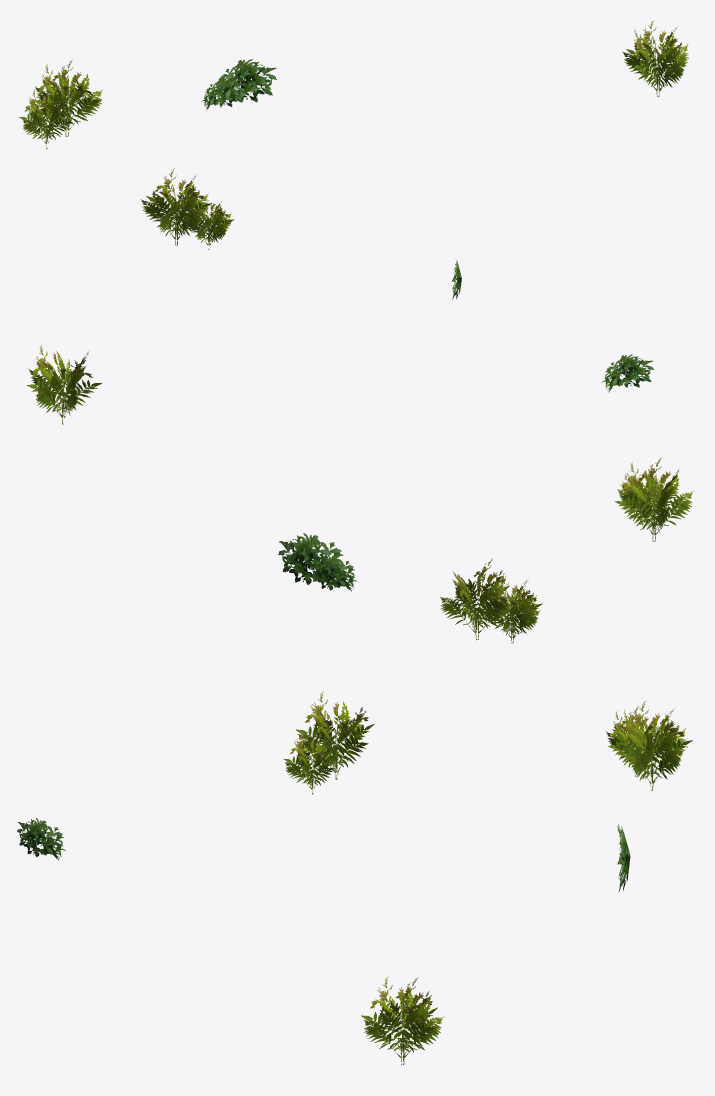
Rendered from rome_farmstead_plants.dae.
3 renders of one model, top to bottom at view 1: azimuth 30°, elevation 25°; view 2: azimuth 150°, elevation 25°; view 3: azimuth 270°, elevation 25°, orthographic. The views are drawn at different scales.
Visible parts, largest first — view 1: rome_farm_plants; view 2: rome_farm_plants; view 3: rome_farm_plants.
Boxes of the visible parts, x1,y1,x2,y2 form: rome_farm_plants: [19, 21, 688, 299]; rome_farm_plants: [27, 344, 693, 643]; rome_farm_plants: [17, 691, 692, 1065].
Bounding box in the file's own units: 21.65 × 18.96 × 2.66.
